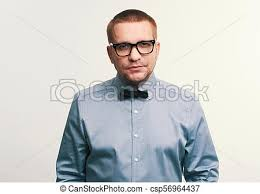Glasses: (100, 42, 159, 57)
